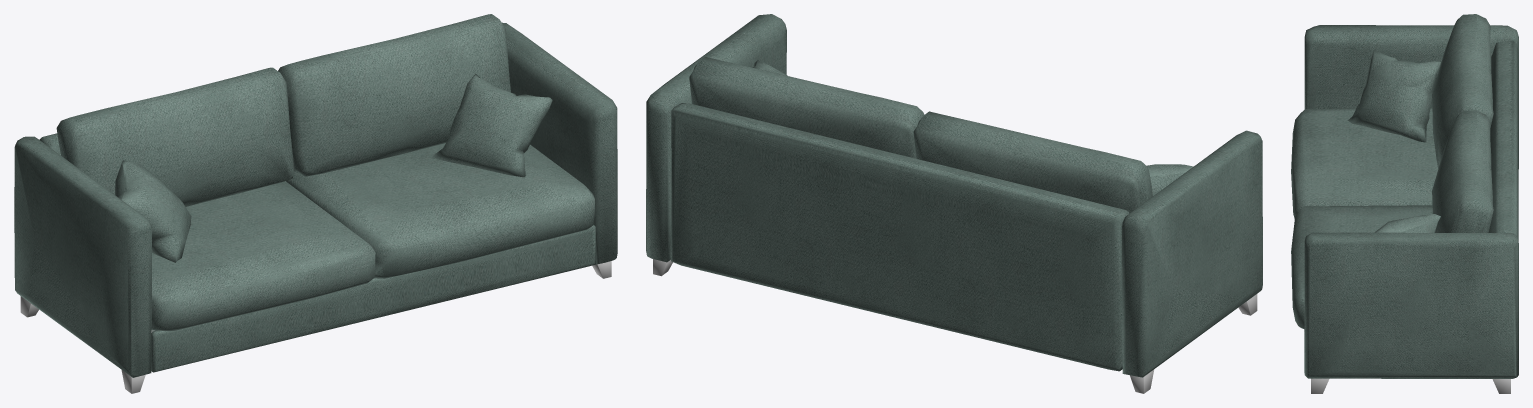
The model's file is Sofa.fbx.
The picture shows the model from 3 angles, left to right: view 1: azimuth 30°, elevation 25°; view 2: azimuth 150°, elevation 25°; view 3: azimuth 270°, elevation 25°; orthographic projection. The views are drawn at different scales.
Parts seen in each view (by area): view 1: Matress, RightBigPillow, LeftSidePanel, LeftBigPillow, FrontPanel, RightSidePanel, RightSmallPillow, LeftSmallPillow, Legs; view 2: RareSidePanel, LeftSidePanel, LeftBigPillow, RightBigPillow, RightSidePanel, Legs, LeftSmallPillow; view 3: RightSidePanel, Matress, LeftSidePanel, RightBigPillow, LeftBigPillow, LeftSmallPillow, RareSidePanel, RightSmallPillow, Legs.
Boxes of the visible parts, bbox=[...] form: Matress: bbox=[151, 143, 594, 330]; RightBigPillow: bbox=[278, 14, 510, 176]; LeftSidePanel: bbox=[14, 136, 151, 377]; LeftBigPillow: bbox=[56, 67, 294, 206]; FrontPanel: bbox=[151, 224, 595, 372]; RightSidePanel: bbox=[502, 22, 617, 264]; RightSmallPillow: bbox=[431, 73, 552, 177]; LeftSmallPillow: bbox=[115, 160, 191, 262]; Legs: bbox=[20, 261, 611, 393]; RareSidePanel: bbox=[670, 103, 1129, 371]; LeftSidePanel: bbox=[1122, 130, 1262, 377]; LeftBigPillow: bbox=[913, 111, 1152, 213]; RightBigPillow: bbox=[689, 56, 924, 158]; RightSidePanel: bbox=[646, 14, 786, 262]; Legs: bbox=[653, 259, 1257, 393]; LeftSmallPillow: bbox=[1146, 164, 1193, 195]; RightSidePanel: bbox=[1304, 232, 1518, 378]; Matress: bbox=[1291, 108, 1438, 329]; LeftSidePanel: bbox=[1304, 25, 1518, 168]; RightBigPillow: bbox=[1432, 110, 1493, 232]; LeftBigPillow: bbox=[1432, 14, 1493, 168]; LeftSmallPillow: bbox=[1348, 50, 1440, 142]; RareSidePanel: bbox=[1488, 40, 1518, 240]; RightSmallPillow: bbox=[1374, 214, 1440, 232]; Legs: bbox=[1311, 378, 1510, 393].
Bounding box in the file's own units: 512 × 201 × 227.
